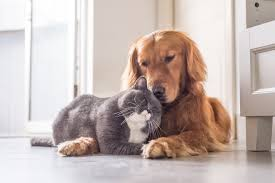cat: (119, 74, 163, 132)
dog: (118, 28, 207, 107)
